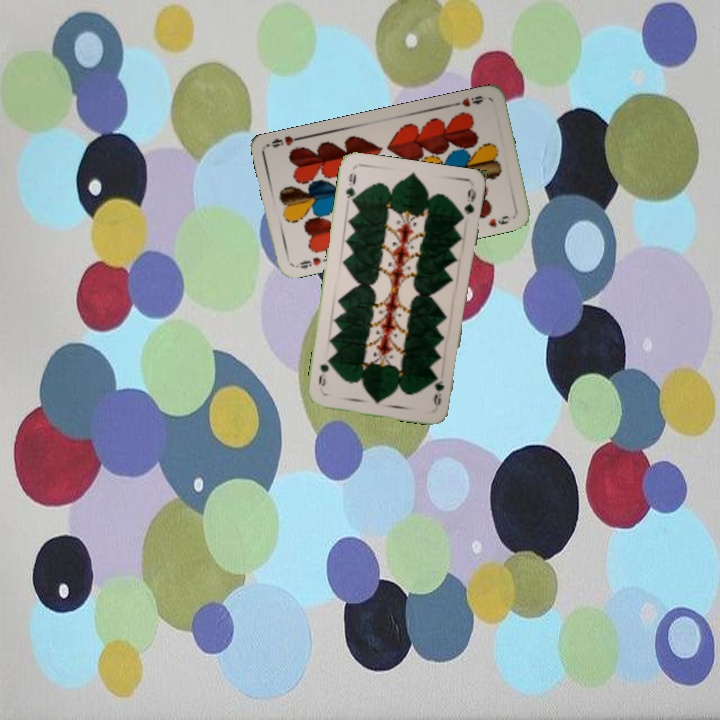G9: (342, 170, 359, 207), (429, 377, 447, 409)
H9: (291, 253, 331, 272), (449, 92, 489, 109)
